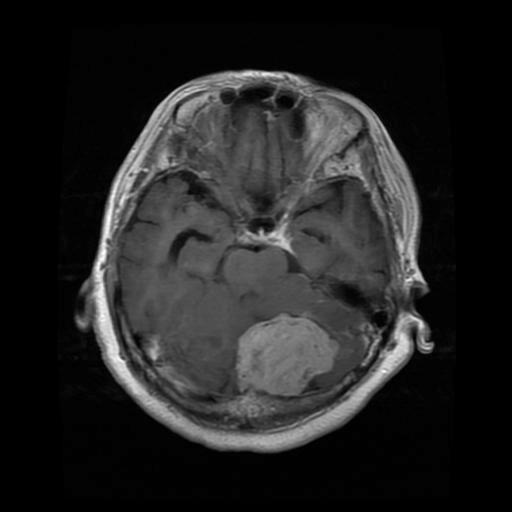Tumour-Meningioma: (223, 305, 355, 410)
